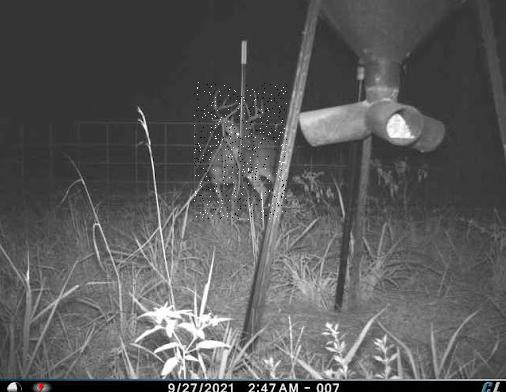Deer: (194, 82, 287, 220)
